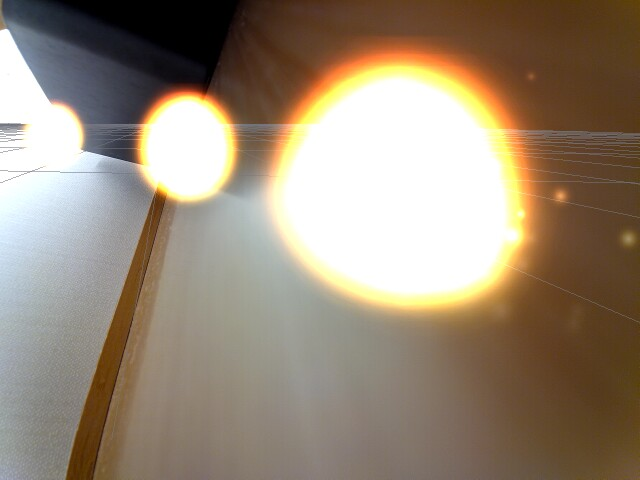firebig: (259, 47, 534, 314)
